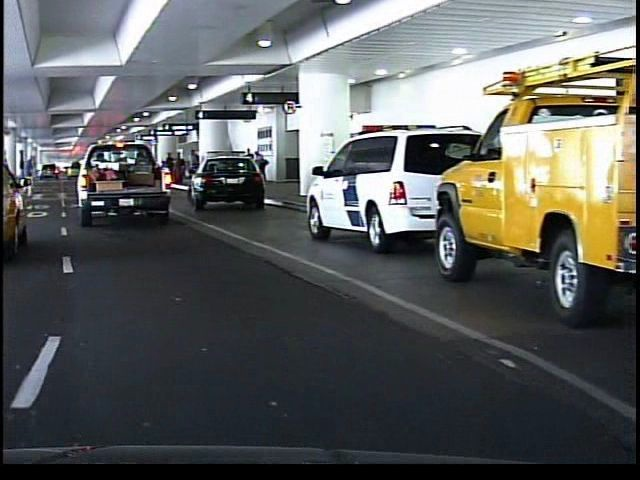person: (17, 151, 36, 203)
